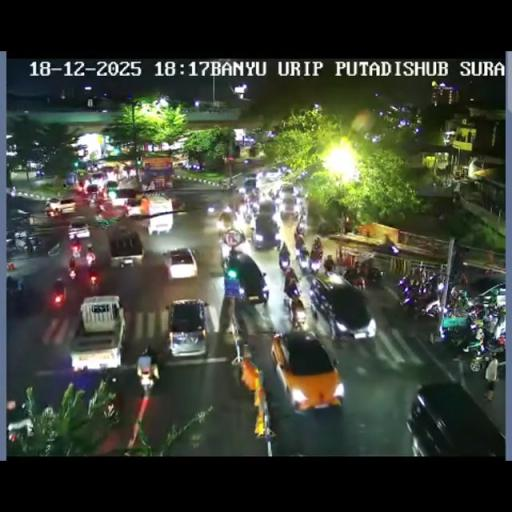Car: (405, 382, 502, 456), (272, 331, 342, 412), (307, 272, 377, 339), (68, 296, 126, 373), (223, 250, 268, 306), (165, 298, 208, 356), (106, 227, 144, 269), (138, 192, 174, 234), (163, 246, 198, 280), (250, 210, 281, 248), (278, 186, 300, 220), (114, 187, 142, 210), (45, 198, 77, 216), (67, 220, 90, 239), (242, 176, 258, 194), (264, 167, 282, 182), (90, 172, 106, 186), (105, 180, 118, 194)
Motorcycle: (438, 316, 476, 354), (401, 284, 439, 320), (478, 319, 505, 358), (84, 245, 98, 288), (289, 295, 306, 330), (343, 264, 366, 289), (448, 286, 470, 312), (482, 290, 503, 314), (219, 232, 236, 261), (362, 265, 384, 287), (295, 247, 312, 273), (138, 363, 155, 388), (465, 302, 486, 322), (283, 274, 299, 300), (6, 275, 22, 298), (309, 250, 323, 274), (52, 284, 66, 306), (234, 192, 246, 217), (24, 236, 38, 255), (278, 250, 290, 270), (6, 237, 20, 254), (242, 205, 254, 223), (216, 214, 228, 232), (260, 188, 274, 203), (296, 218, 306, 238), (386, 242, 400, 255), (67, 263, 77, 281), (70, 242, 81, 258), (88, 194, 99, 208), (226, 182, 237, 196), (324, 256, 334, 271), (295, 234, 304, 250), (97, 200, 107, 214), (235, 229, 245, 243), (313, 235, 321, 249), (482, 267, 494, 275), (238, 186, 246, 196), (8, 186, 16, 196)
